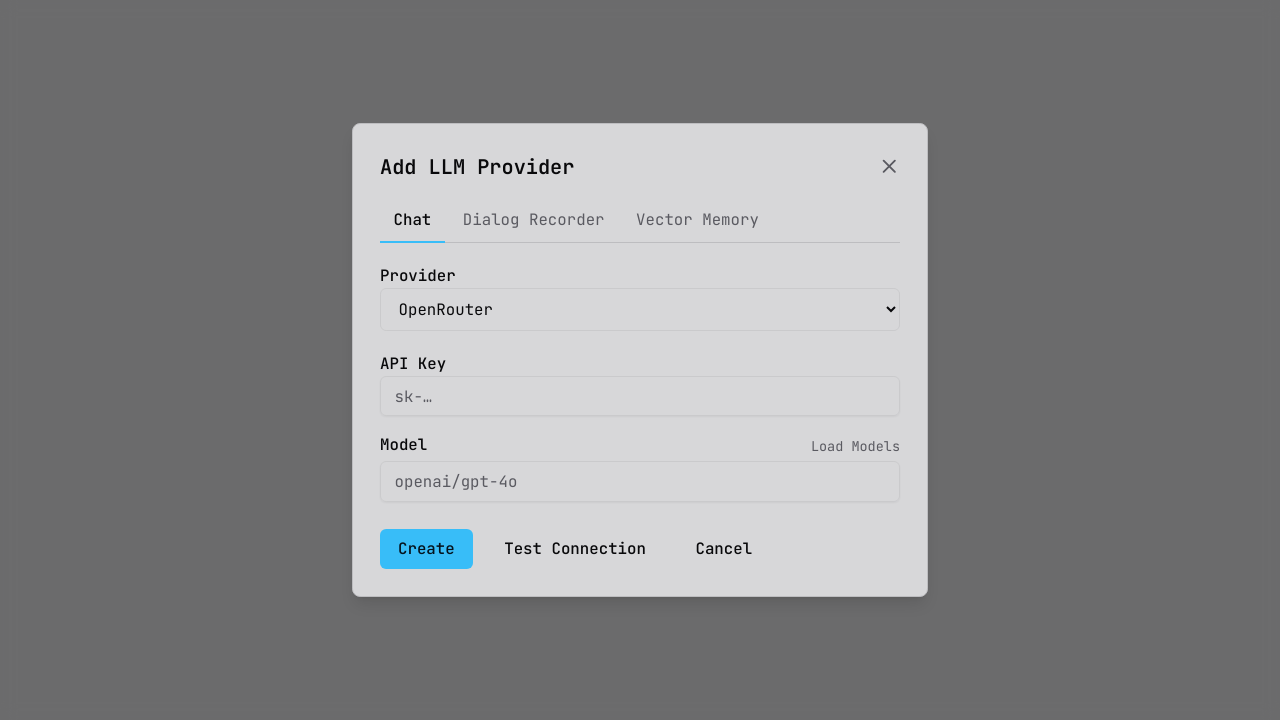
Scenario: LLMConfigDialog per-tab Test Connection › S2.1 — on the vectors tab the button probes the embedding endpoint
Click the button "Vector Memory" at (698, 222), box x1=623 y1=200 x2=772 y2=243
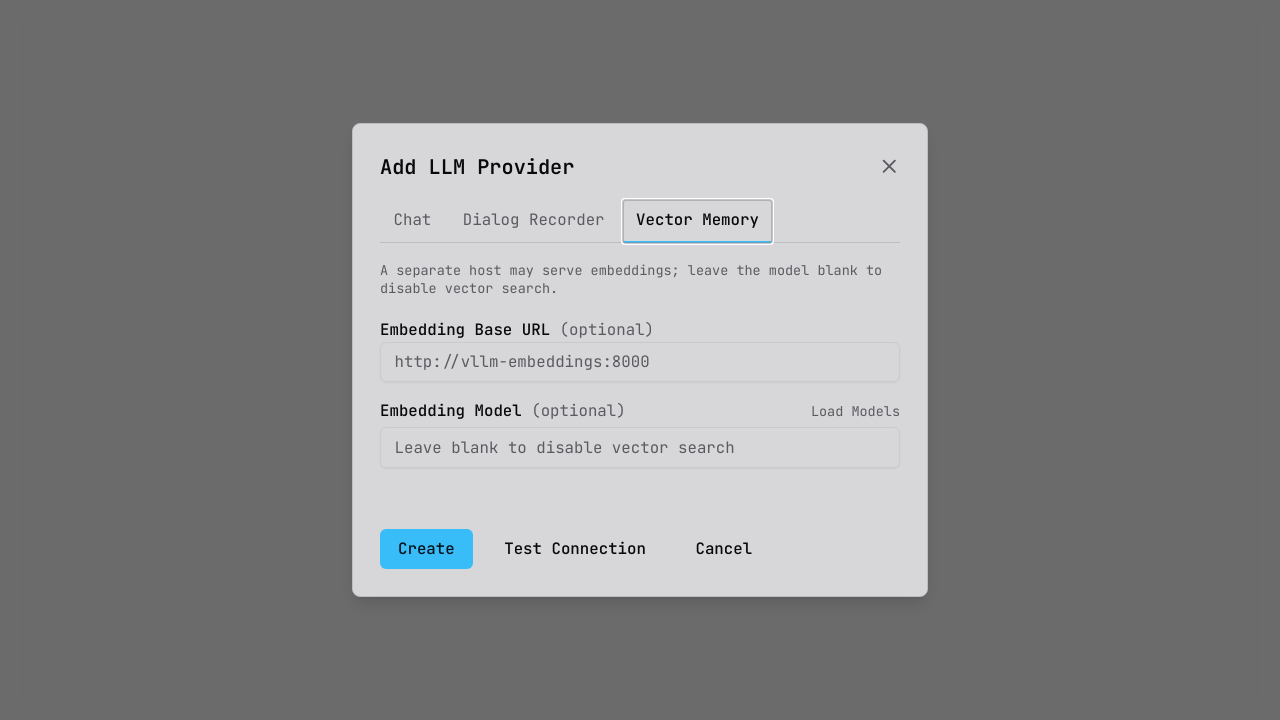
Type "qwen3-embedding:0.6b" into the field with placeholder "Leave blank to disable vector search" at (640, 447), box x1=380 y1=427 x2=900 y2=468
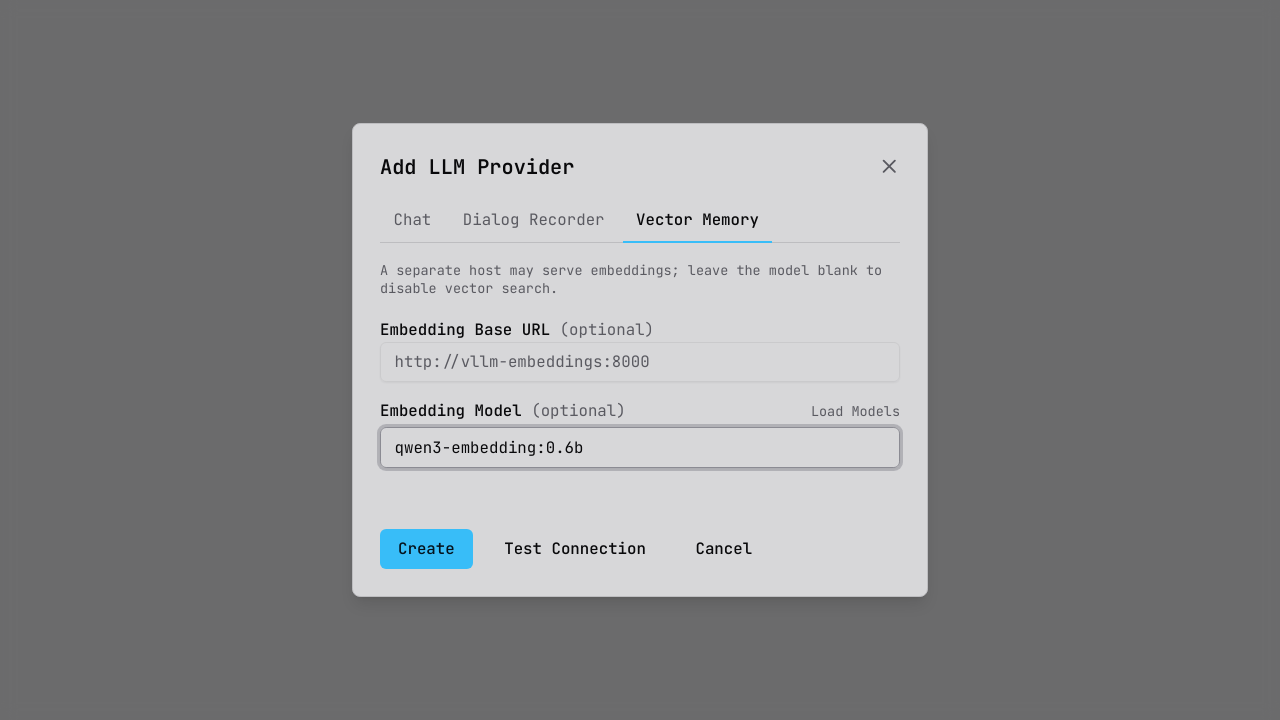
Click the button "Test Connection" at (575, 549), box x1=486 y1=529 x2=664 y2=569
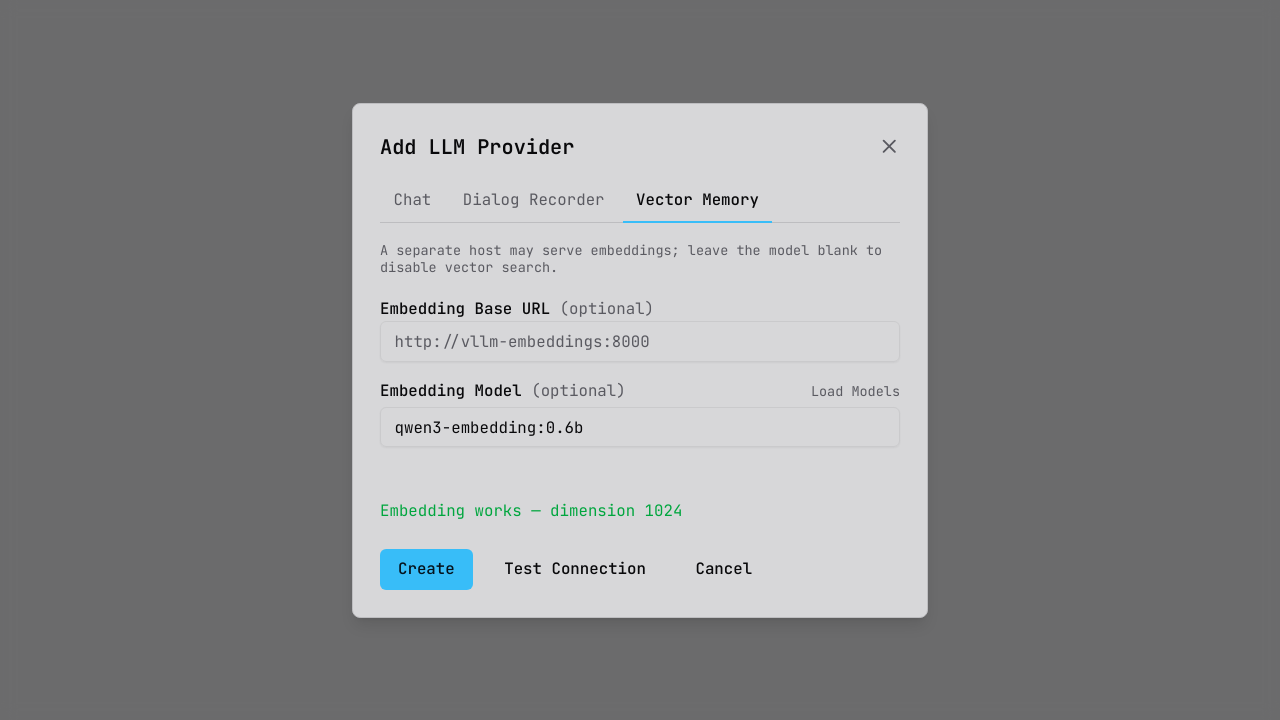
Check: the text "Embedding works — dimension 1024" is shown, box x1=380 y1=500 x2=682 y2=520
